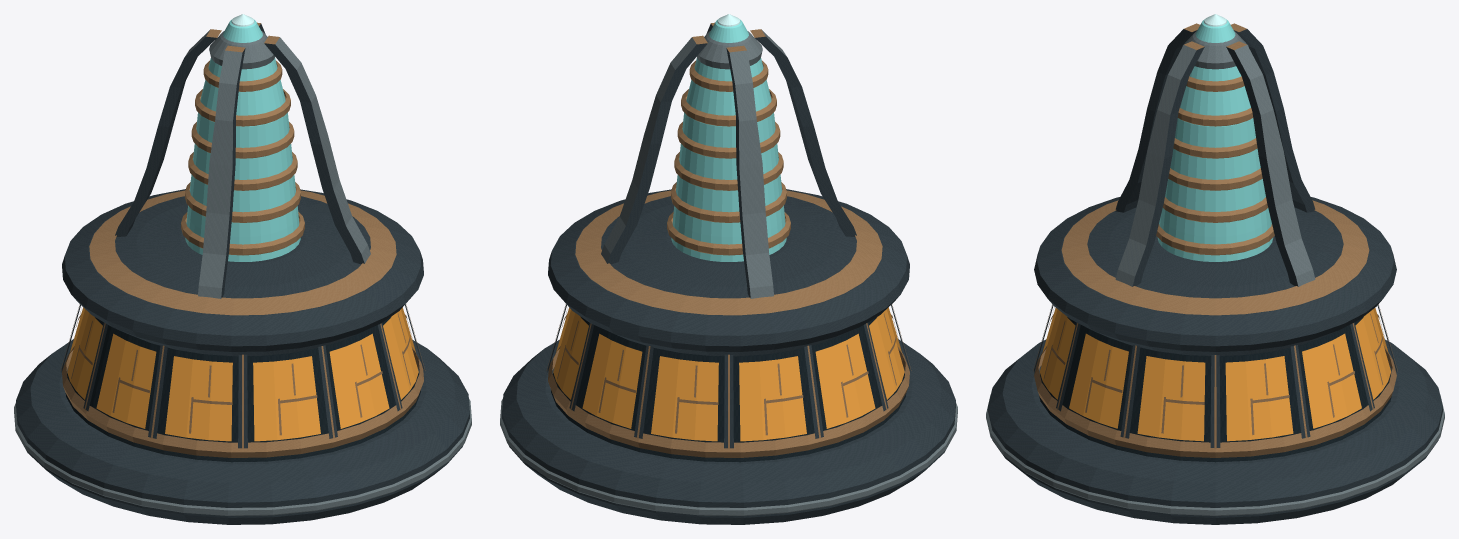
The model's file is shield_emitter.obj.
3 views of the same model, side by side, from view 1: azimuth 30°, elevation 25°; view 2: azimuth 150°, elevation 25°; view 3: azimuth 270°, elevation 25° (orthographic).
Parts seen in each view (by area): view 1: ancient_shield_emitter; view 2: ancient_shield_emitter; view 3: ancient_shield_emitter.
Part boxes in pixels (bbox=[...]): ancient_shield_emitter: bbox=[14, 14, 471, 524]; ancient_shield_emitter: bbox=[500, 14, 957, 524]; ancient_shield_emitter: bbox=[986, 14, 1444, 524].
Size of the model in its own units: 0.948 by 0.98 by 0.948.
